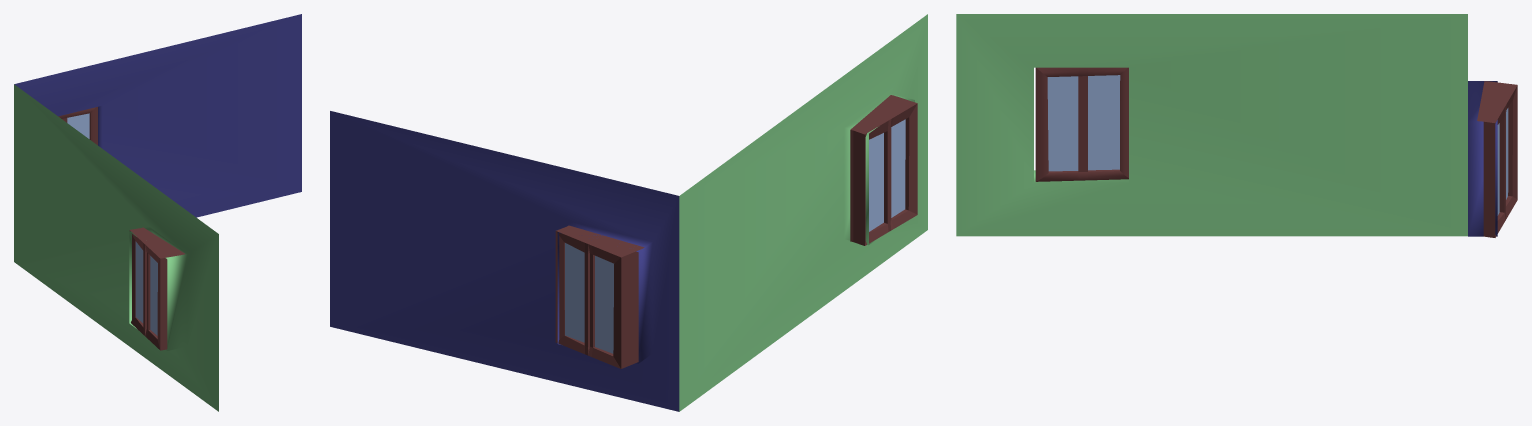
The model's file is Muros_nuevos_mas_ventanas.fbx.
The picture shows the model from 3 angles, left to right: view 1: azimuth 30°, elevation 25°; view 2: azimuth 150°, elevation 25°; view 3: azimuth 270°, elevation 25°; orthographic projection. The views are drawn at different scales.
Parts seen in each view (by area): view 1: polySurface18, Muro_frontal1, marcoventanaderecha4, marcoventanaderecha3, Vidrio_ventanaderecha4, Vidrio_ventanaderecha3, marcoventanaderecha2, Vidrio_ventanaderecha2; view 2: polySurface18, Muro_frontal1, marcoventanaderecha1, marcoventanaderecha3, marcoventanaderecha4, marcoventanaderecha2, Vidrio_ventanaderecha2, Vidrio_ventanaderecha1, Vidrio_ventanaderecha4, Vidrio_ventanaderecha3; view 3: Muro_frontal1, Vidrio_ventanaderecha4, Vidrio_ventanaderecha3, marcoventanaderecha2, marcoventanaderecha4, polySurface18, marcoventanaderecha3, marcoventanaderecha1.
Boxes of the visible parts, <box> form: polySurface18: <box>14,14,301,217</box>; Muro_frontal1: <box>14,84,218,411</box>; marcoventanaderecha4: <box>145,241,184,350</box>; marcoventanaderecha3: <box>129,227,164,335</box>; Vidrio_ventanaderecha4: <box>135,241,143,322</box>; Vidrio_ventanaderecha3: <box>150,256,157,335</box>; marcoventanaderecha2: <box>63,107,97,145</box>; Vidrio_ventanaderecha2: <box>67,113,89,138</box>; polySurface18: <box>330,111,679,411</box>; Muro_frontal1: <box>679,14,927,411</box>; marcoventanaderecha1: <box>588,236,644,368</box>; marcoventanaderecha3: <box>850,112,891,245</box>; marcoventanaderecha4: <box>871,95,917,230</box>; marcoventanaderecha2: <box>555,225,606,355</box>; Vidrio_ventanaderecha2: <box>565,243,584,342</box>; Vidrio_ventanaderecha1: <box>595,255,613,353</box>; Vidrio_ventanaderecha4: <box>869,133,883,231</box>; Vidrio_ventanaderecha3: <box>891,119,905,217</box>; Muro_frontal1: <box>956,14,1467,236</box>; Vidrio_ventanaderecha4: <box>1088,75,1120,170</box>; Vidrio_ventanaderecha3: <box>1047,76,1078,171</box>; marcoventanaderecha2: <box>1477,101,1506,237</box>; marcoventanaderecha4: <box>1035,67,1083,181</box>; polySurface18: <box>1468,81,1497,236</box>; marcoventanaderecha3: <box>1083,67,1128,180</box>; marcoventanaderecha1: <box>1481,81,1517,218</box>.
Bounding box in the file's own units: 6.29 × 7.82 × 3.42.
